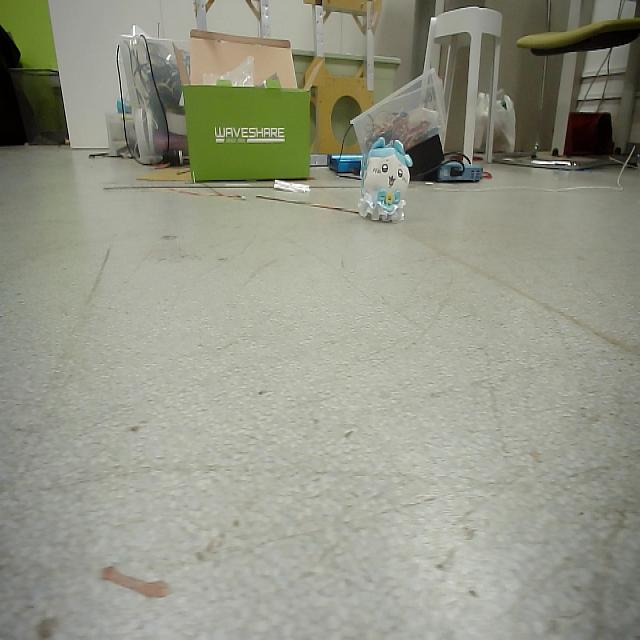xiaoba: (359, 134, 412, 226)
